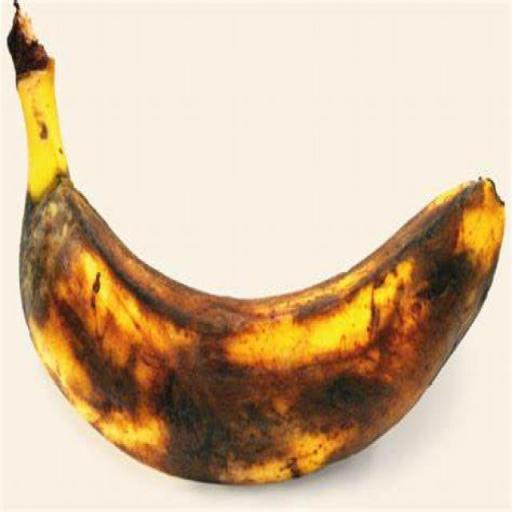fruit: (8, 10, 503, 483)
